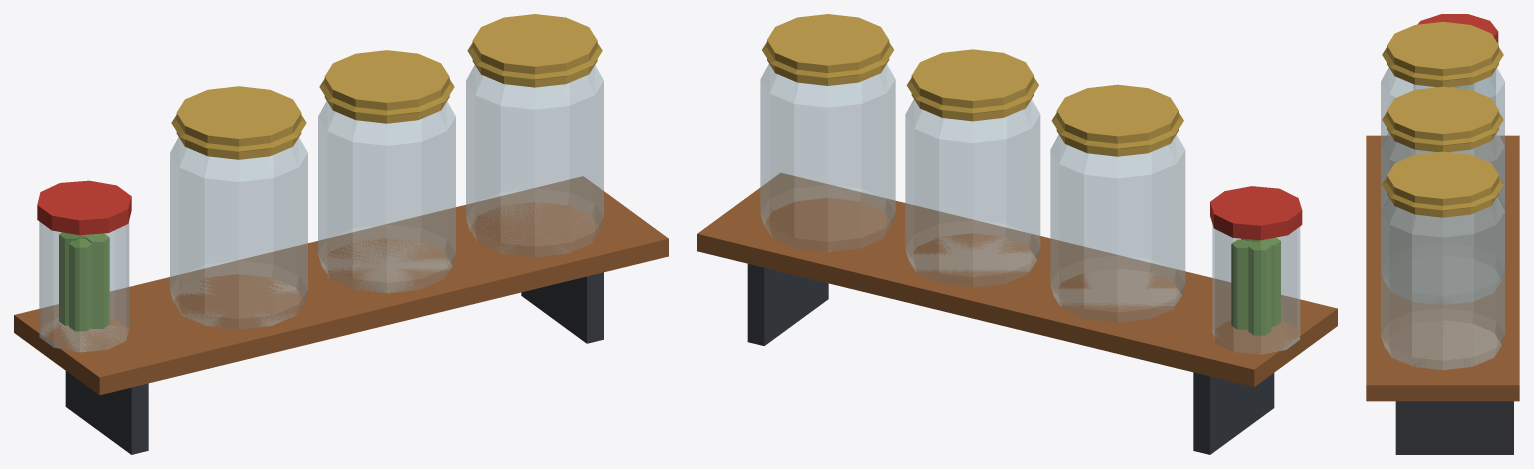
Rendered from jarShelf.fbx.
3 views of the same model, side by side, from view 1: azimuth 30°, elevation 25°; view 2: azimuth 150°, elevation 25°; view 3: azimuth 270°, elevation 25° (orthographic). The views are drawn at different scales.
Visible parts, largest first — view 1: jarShelf, jar1, jar0, jar2, MECH_lid2, MECH_lid1, MECH_lid0; view 2: jarShelf, jar2, jar0, jar1, MECH_lid1, MECH_lid2, MECH_lid0; view 3: jarShelf, jar0, jar1, MECH_lid0, MECH_lid1, MECH_lid2, jar2.
Boxes of the visible parts, x1,y1,x2,y2 form: jarShelf: [14, 176, 668, 454]; jar1: [318, 101, 455, 293]; jar0: [466, 65, 603, 256]; jar2: [170, 137, 307, 329]; MECH_lid2: [171, 86, 306, 159]; MECH_lid1: [319, 50, 454, 123]; MECH_lid0: [467, 14, 602, 87]; jarShelf: [697, 173, 1337, 454]; jar2: [1050, 134, 1185, 322]; jar0: [760, 64, 895, 251]; jar1: [905, 99, 1040, 286]; MECH_lid1: [906, 49, 1038, 121]; MECH_lid2: [1051, 84, 1183, 156]; MECH_lid0: [762, 14, 893, 85]; jarShelf: [1366, 14, 1519, 454]; jar0: [1381, 197, 1504, 369]; jar1: [1381, 133, 1504, 304]; MECH_lid0: [1382, 151, 1503, 217]; MECH_lid1: [1382, 86, 1503, 152]; MECH_lid2: [1382, 22, 1503, 87]; jar2: [1381, 68, 1504, 207].
Bounding box in the file's own units: 4.04 × 1.95 × 1.04.
